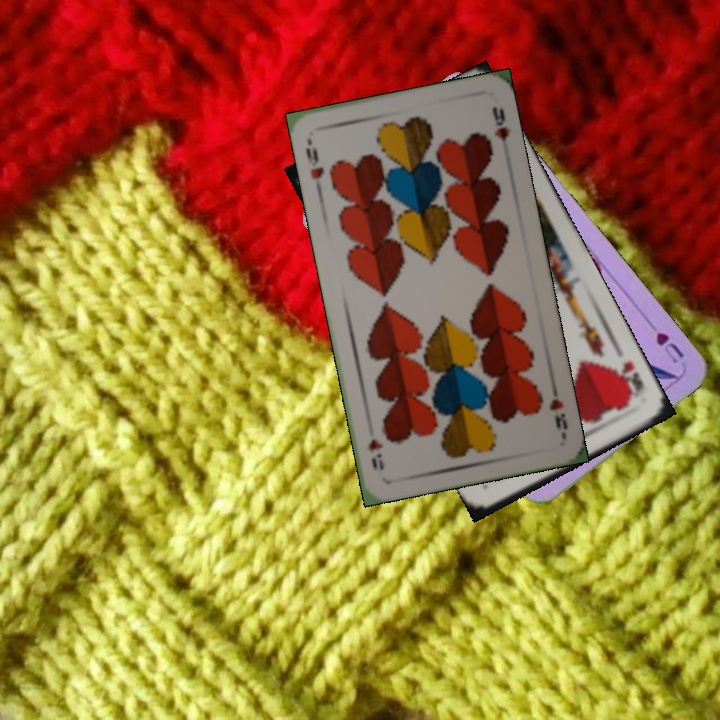H9: (545, 381, 570, 432), (301, 144, 327, 193)
HK: (611, 356, 646, 403)
HU: (644, 318, 687, 366)
